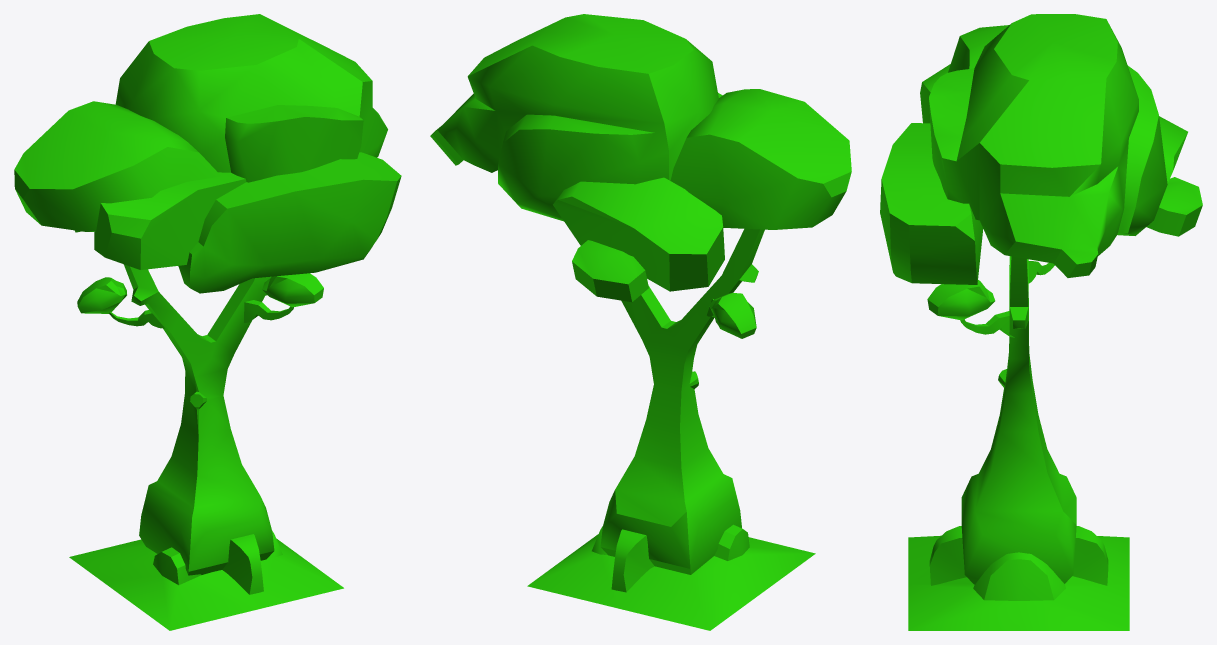
The model's file is FOL_Foliage_02.FBX.
3 renders of one model, left to right at view 1: azimuth 30°, elevation 25°; view 2: azimuth 150°, elevation 25°; view 3: azimuth 270°, elevation 25°, orthographic. The views are drawn at different scales.
Visible parts, largest first — view 1: FOL_Foliage_02; view 2: FOL_Foliage_02; view 3: FOL_Foliage_02.
Boxes of the visible parts, x1,y1,x2,y2 form: FOL_Foliage_02: (14,14,401,630); FOL_Foliage_02: (430,14,851,630); FOL_Foliage_02: (880,14,1202,630).
Bounding box in the file's own units: 12.87 × 16.82 × 8.75.
